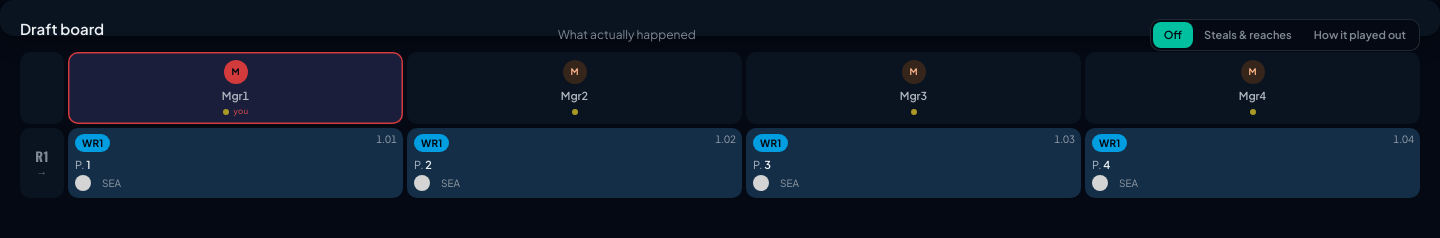
Test: CompletedDraftBoard steals & reaches › ORDERING: a pick 20 after its draft-time ADP is never tinted as a reach
Click the button "Steals & reaches": click(1248, 35) [1193, 22, 1303, 48]
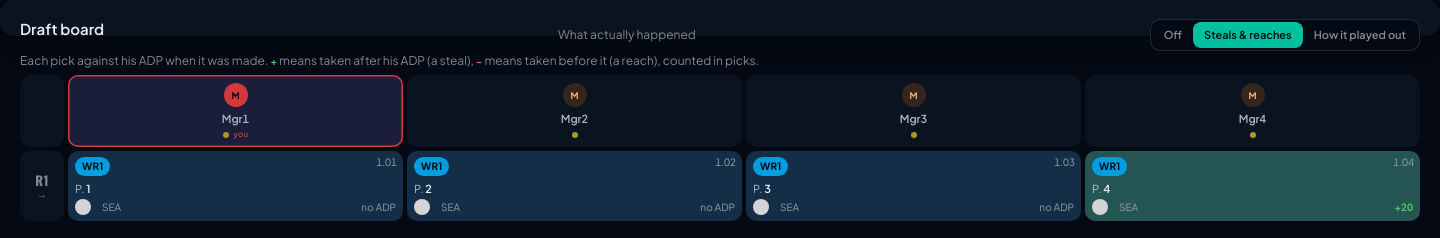
Check: the element with class "board" is shown, box [20, 75, 1420, 221]
Check: the button with class "cell" shows "+20", box [1085, 151, 1420, 221]
